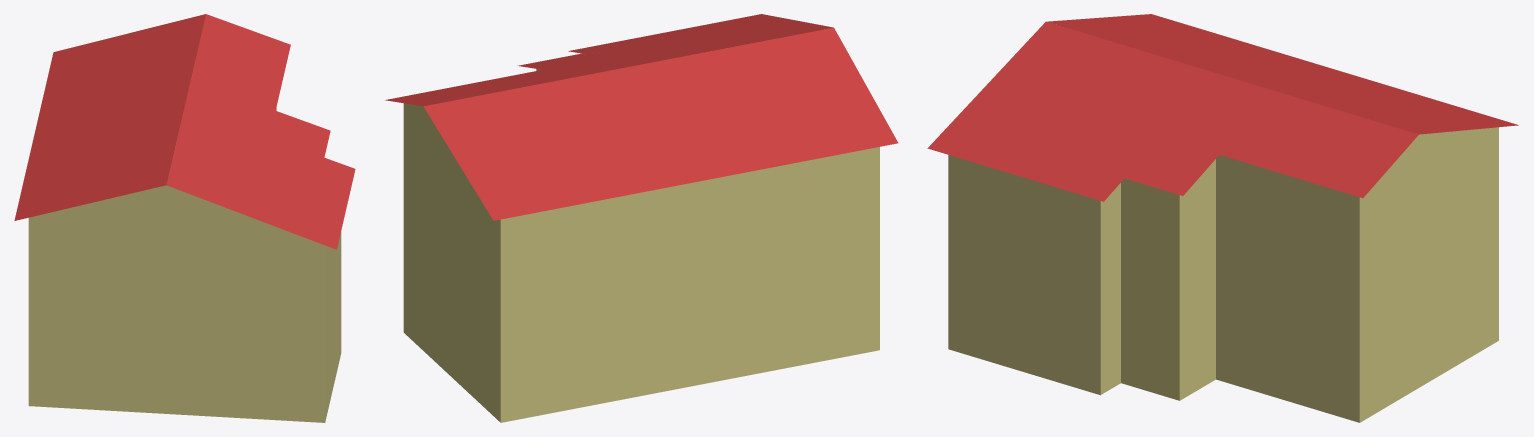
3 renders of one model, left to right at view 1: azimuth 30°, elevation 25°; view 2: azimuth 150°, elevation 25°; view 3: azimuth 270°, elevation 25°, orthographic. The views are drawn at different scales.
Bounding box in the file's own units: 16.39 × 20.13 × 9.9.
